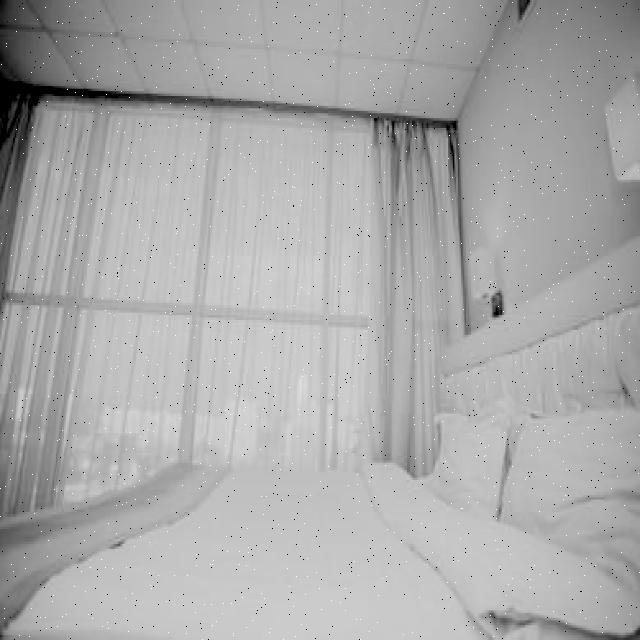bed: (15, 399, 640, 640)
